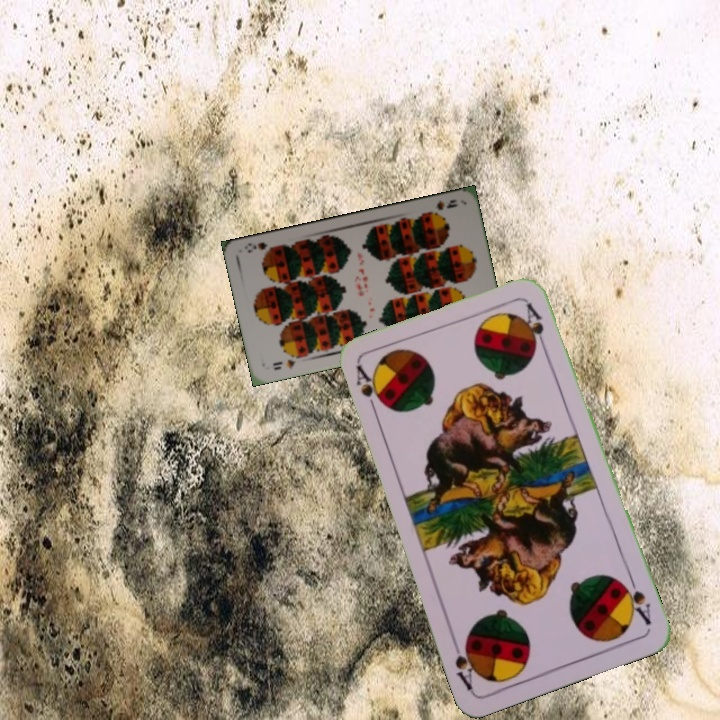S9: (423, 195, 461, 217), (269, 355, 298, 373)
SA: (616, 572, 654, 628), (352, 362, 382, 419)
